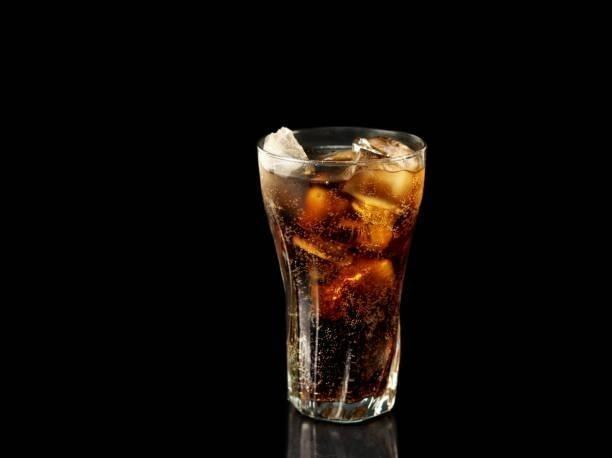glass-normal: (255, 124, 428, 425)
